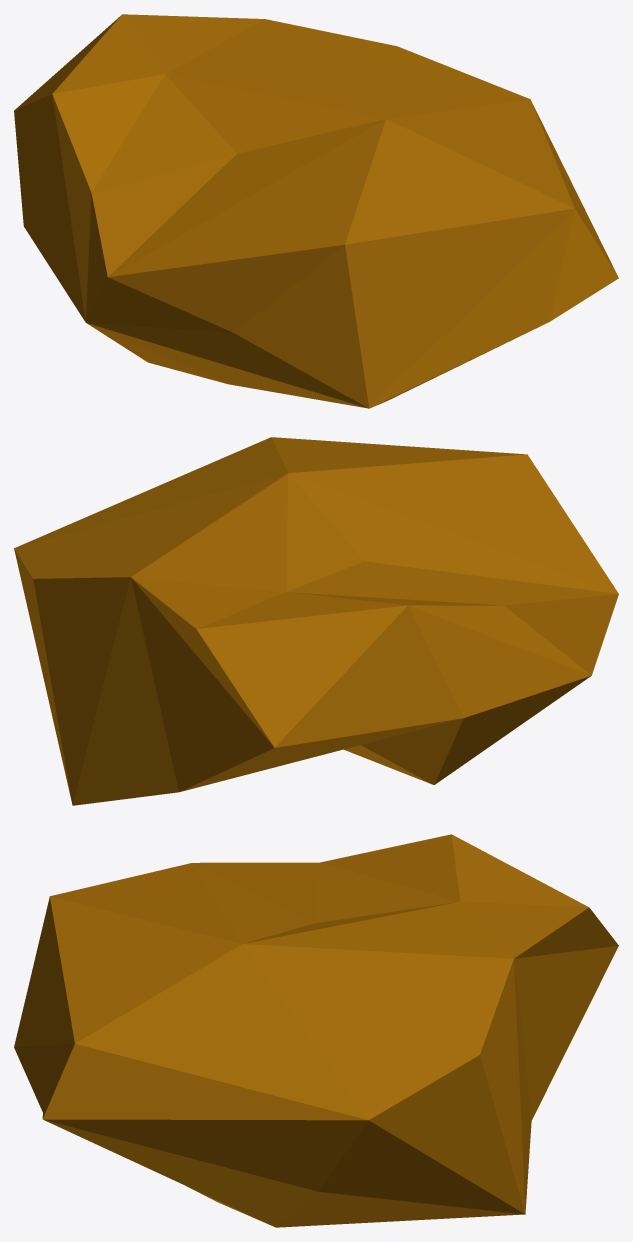
File: gold2.fbx
The picture shows the model from 3 angles, top to bottom: view 1: azimuth 30°, elevation 25°; view 2: azimuth 150°, elevation 25°; view 3: azimuth 270°, elevation 25°; orthographic projection. The views are drawn at different scales.
Parts seen in each view (by area): view 1: Cube.001; view 2: Cube.001; view 3: Cube.001.
Part boxes in pixels (x1=…): Cube.001: x1=14, y1=14, x2=618, y2=408; Cube.001: x1=14, y1=437, x2=618, y2=805; Cube.001: x1=14, y1=834, x2=618, y2=1227.
Bounding box in the file's own units: 11.07 × 5.6 × 11.58.
